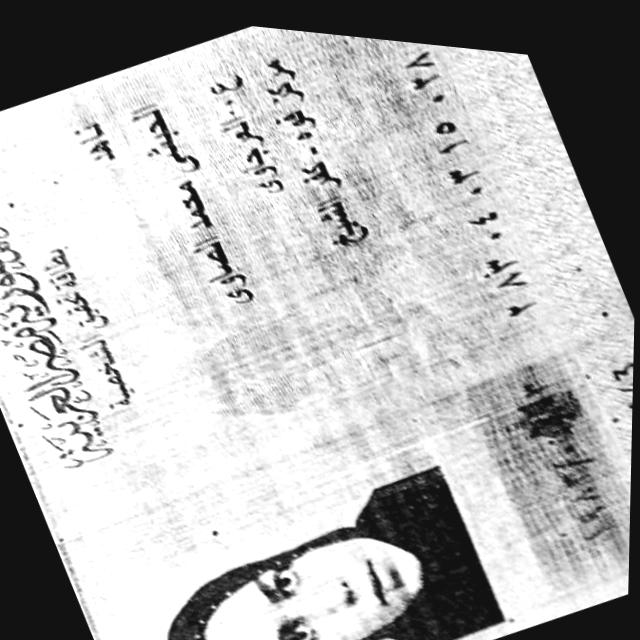id_card: (0, 26, 634, 640)
